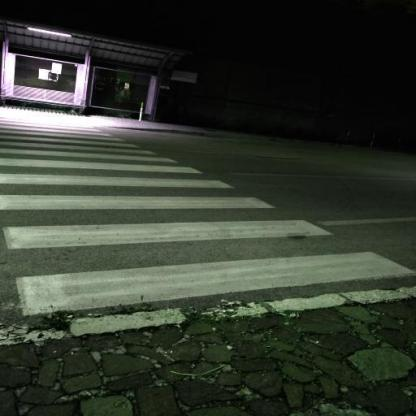crosswalk: (0, 172, 283, 219)
